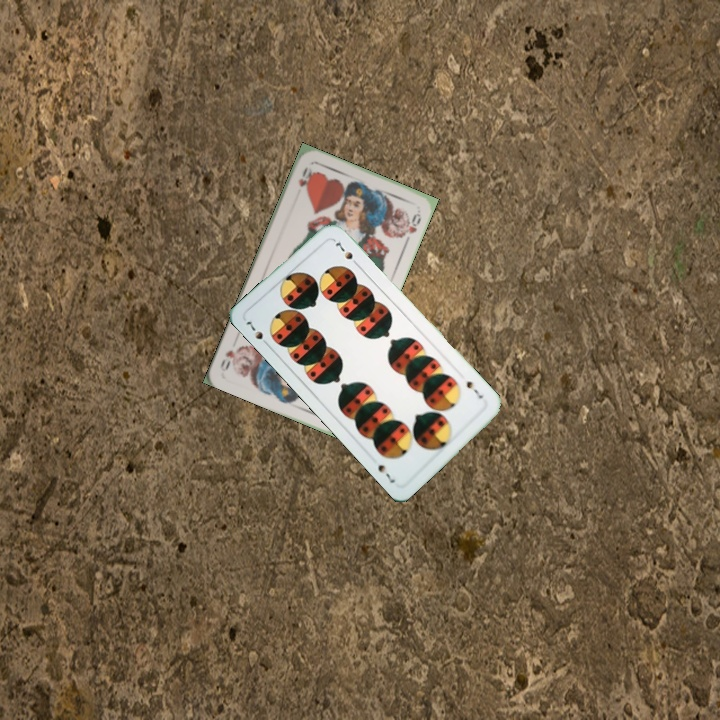HO: (294, 162, 315, 190)
S7: (241, 317, 272, 349), (462, 377, 486, 401)
